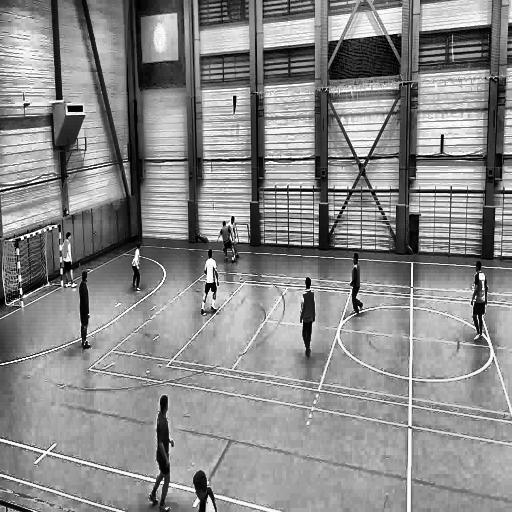ball: (231, 256, 236, 266)
player: (148, 392, 175, 510), (470, 260, 488, 346), (200, 247, 220, 319), (300, 277, 316, 363), (60, 231, 78, 291), (349, 250, 364, 318), (79, 270, 91, 352), (216, 220, 232, 263), (132, 241, 143, 293), (231, 214, 240, 255)
